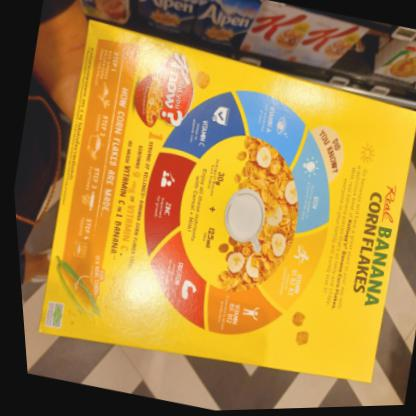i: (11, 4, 415, 415), (232, 0, 322, 78)
